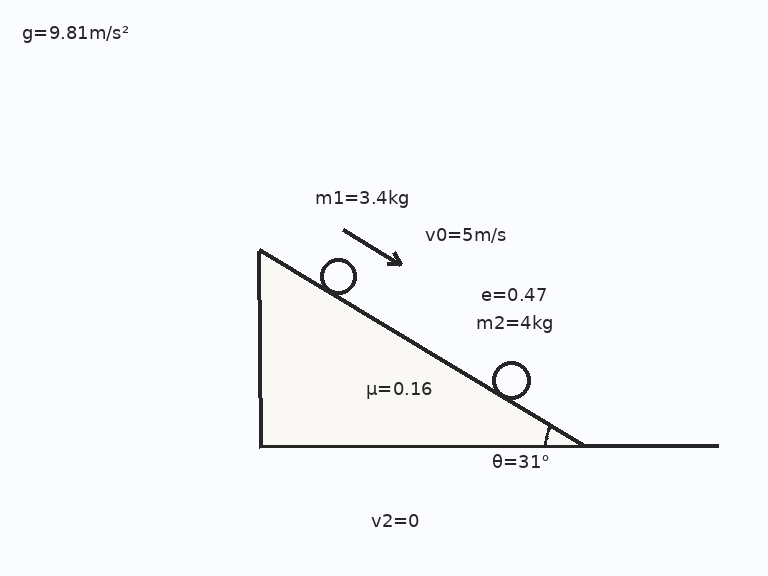ball: (490, 359, 532, 401), (318, 256, 358, 296)
ramp: (257, 248, 587, 448)
